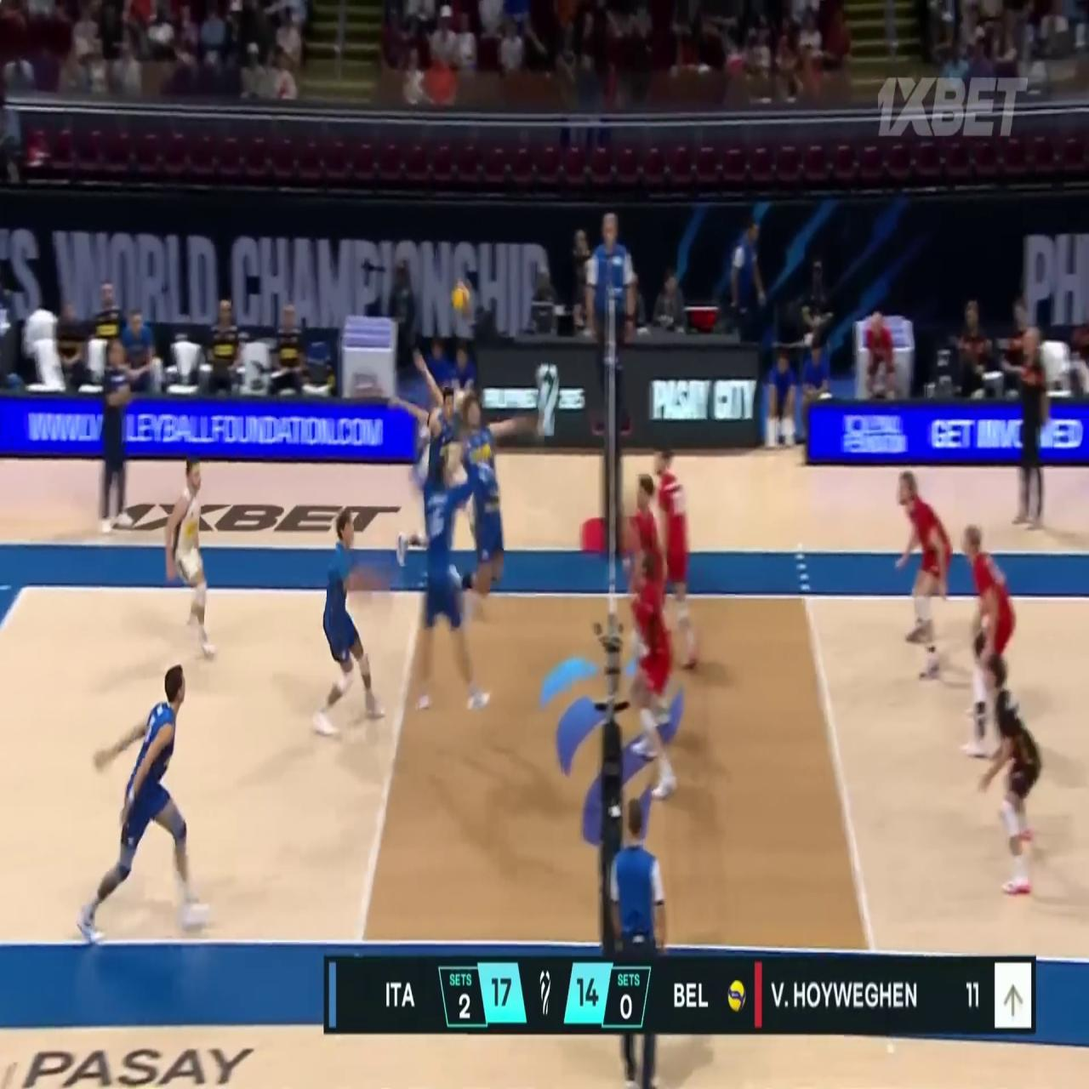ball: (451, 283, 470, 312)
